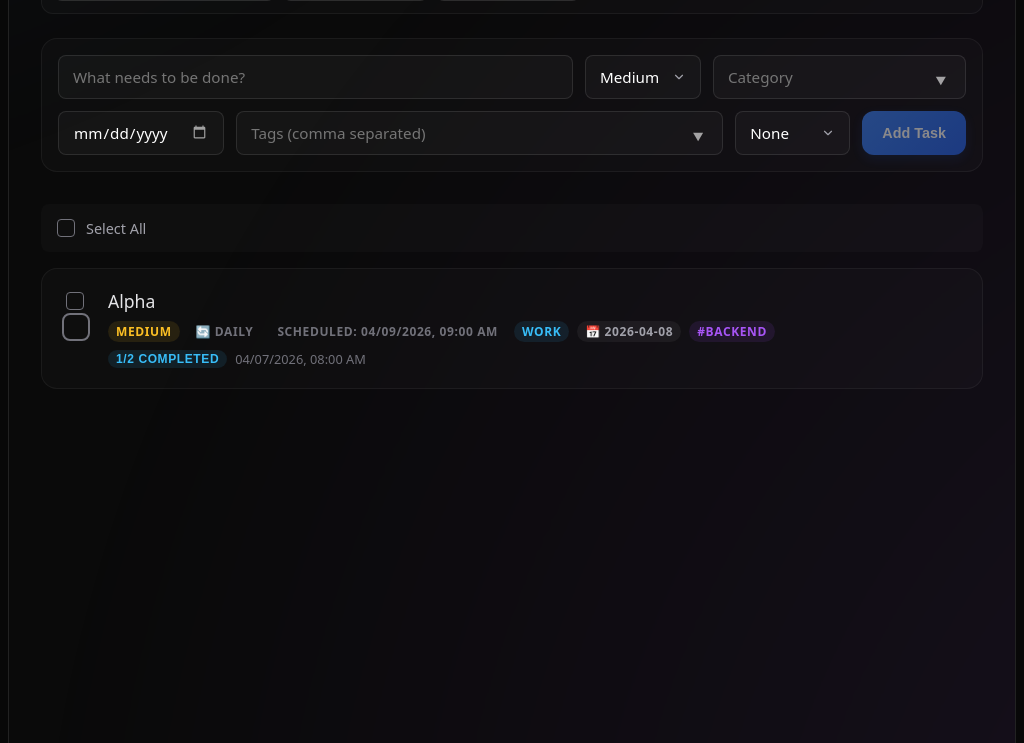
Scenario: TodoList reset behavior › lazy-loads sub-items when a row checklist is expanded
The width and height of the screenshot is (1024, 743).
(page scrolled)
Click the button with class "checklist-toggle-btn" at (168,359), box left=108, top=350, right=227, bottom=368
(page scrolled)
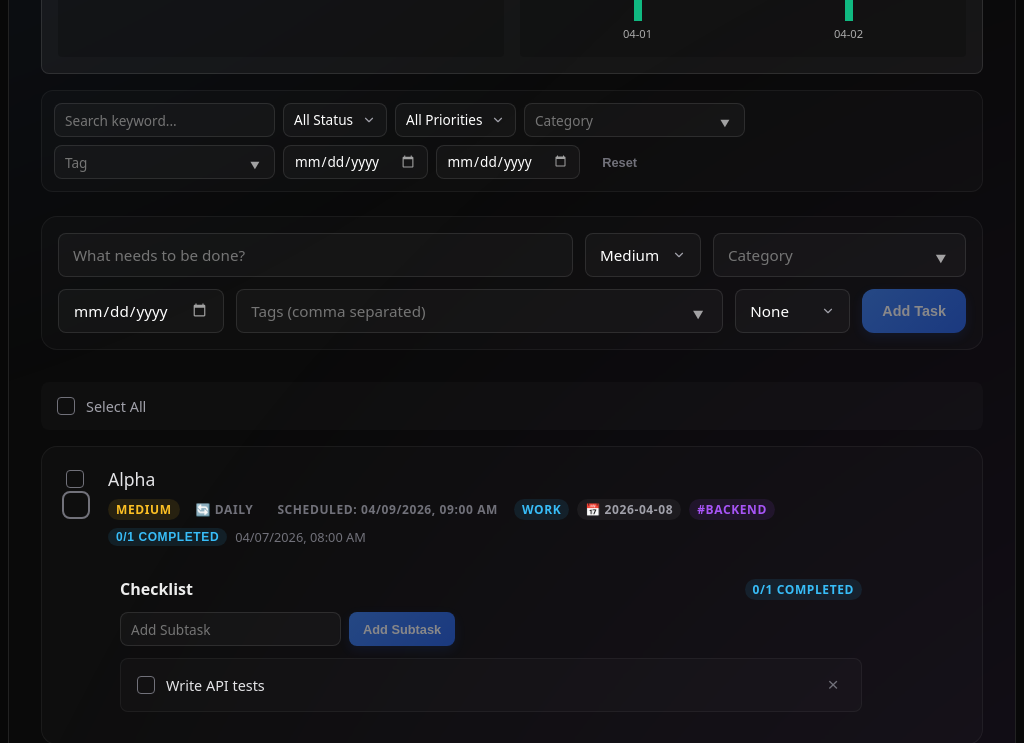
Result: the text "Write API tests" is shown at left=166, top=676, right=265, bottom=694
